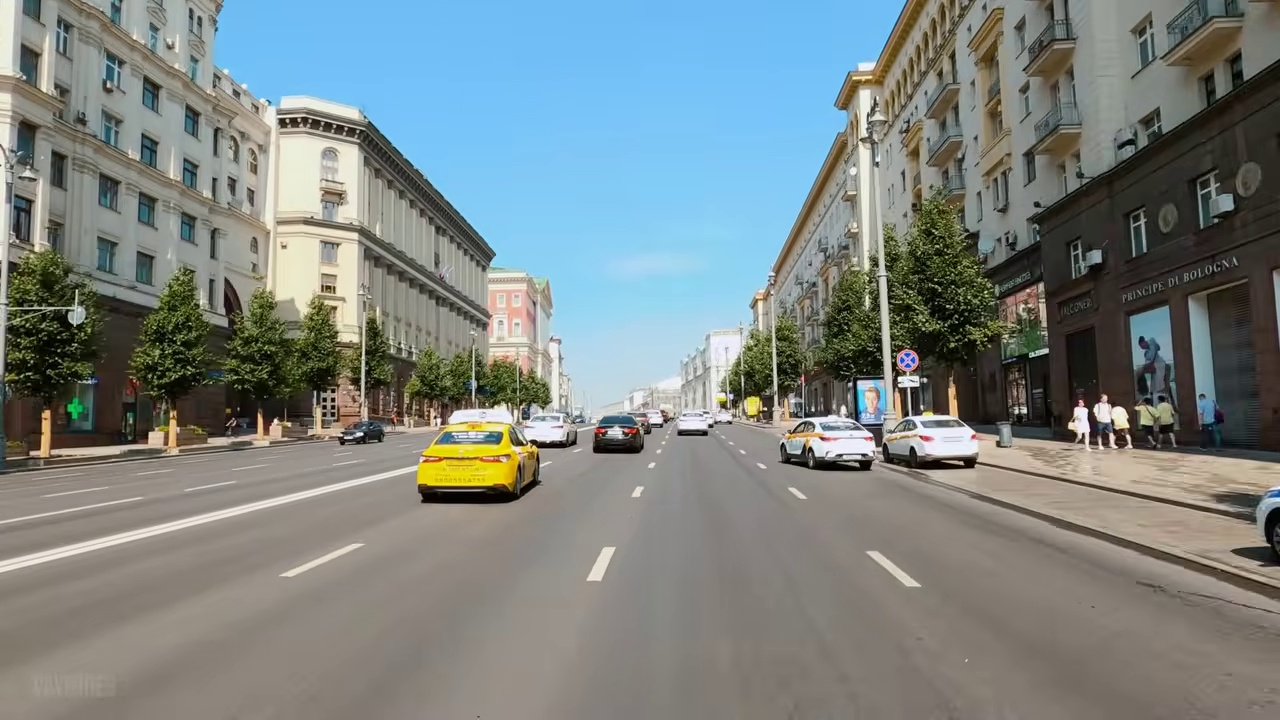apagada: (860, 112, 894, 139)
